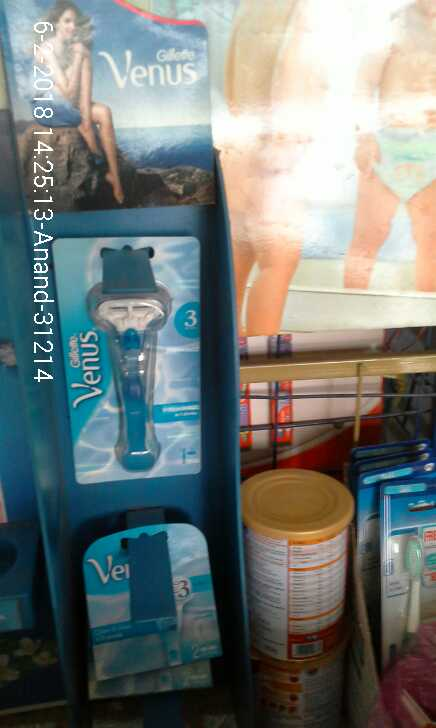venus: (41, 226, 215, 476), (79, 526, 227, 673)
